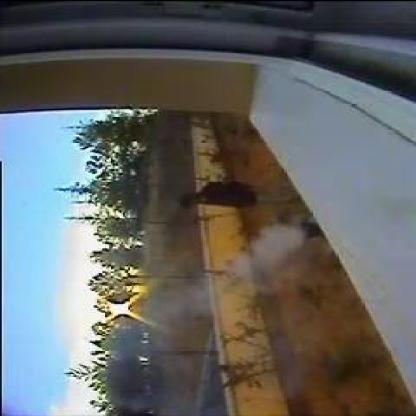-: (258, 229, 298, 261)
